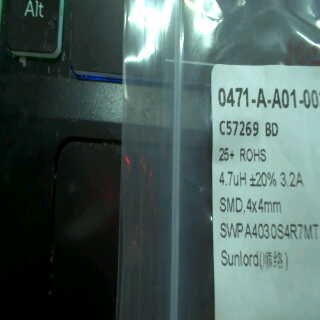4.7uH: (217, 166, 249, 189)
